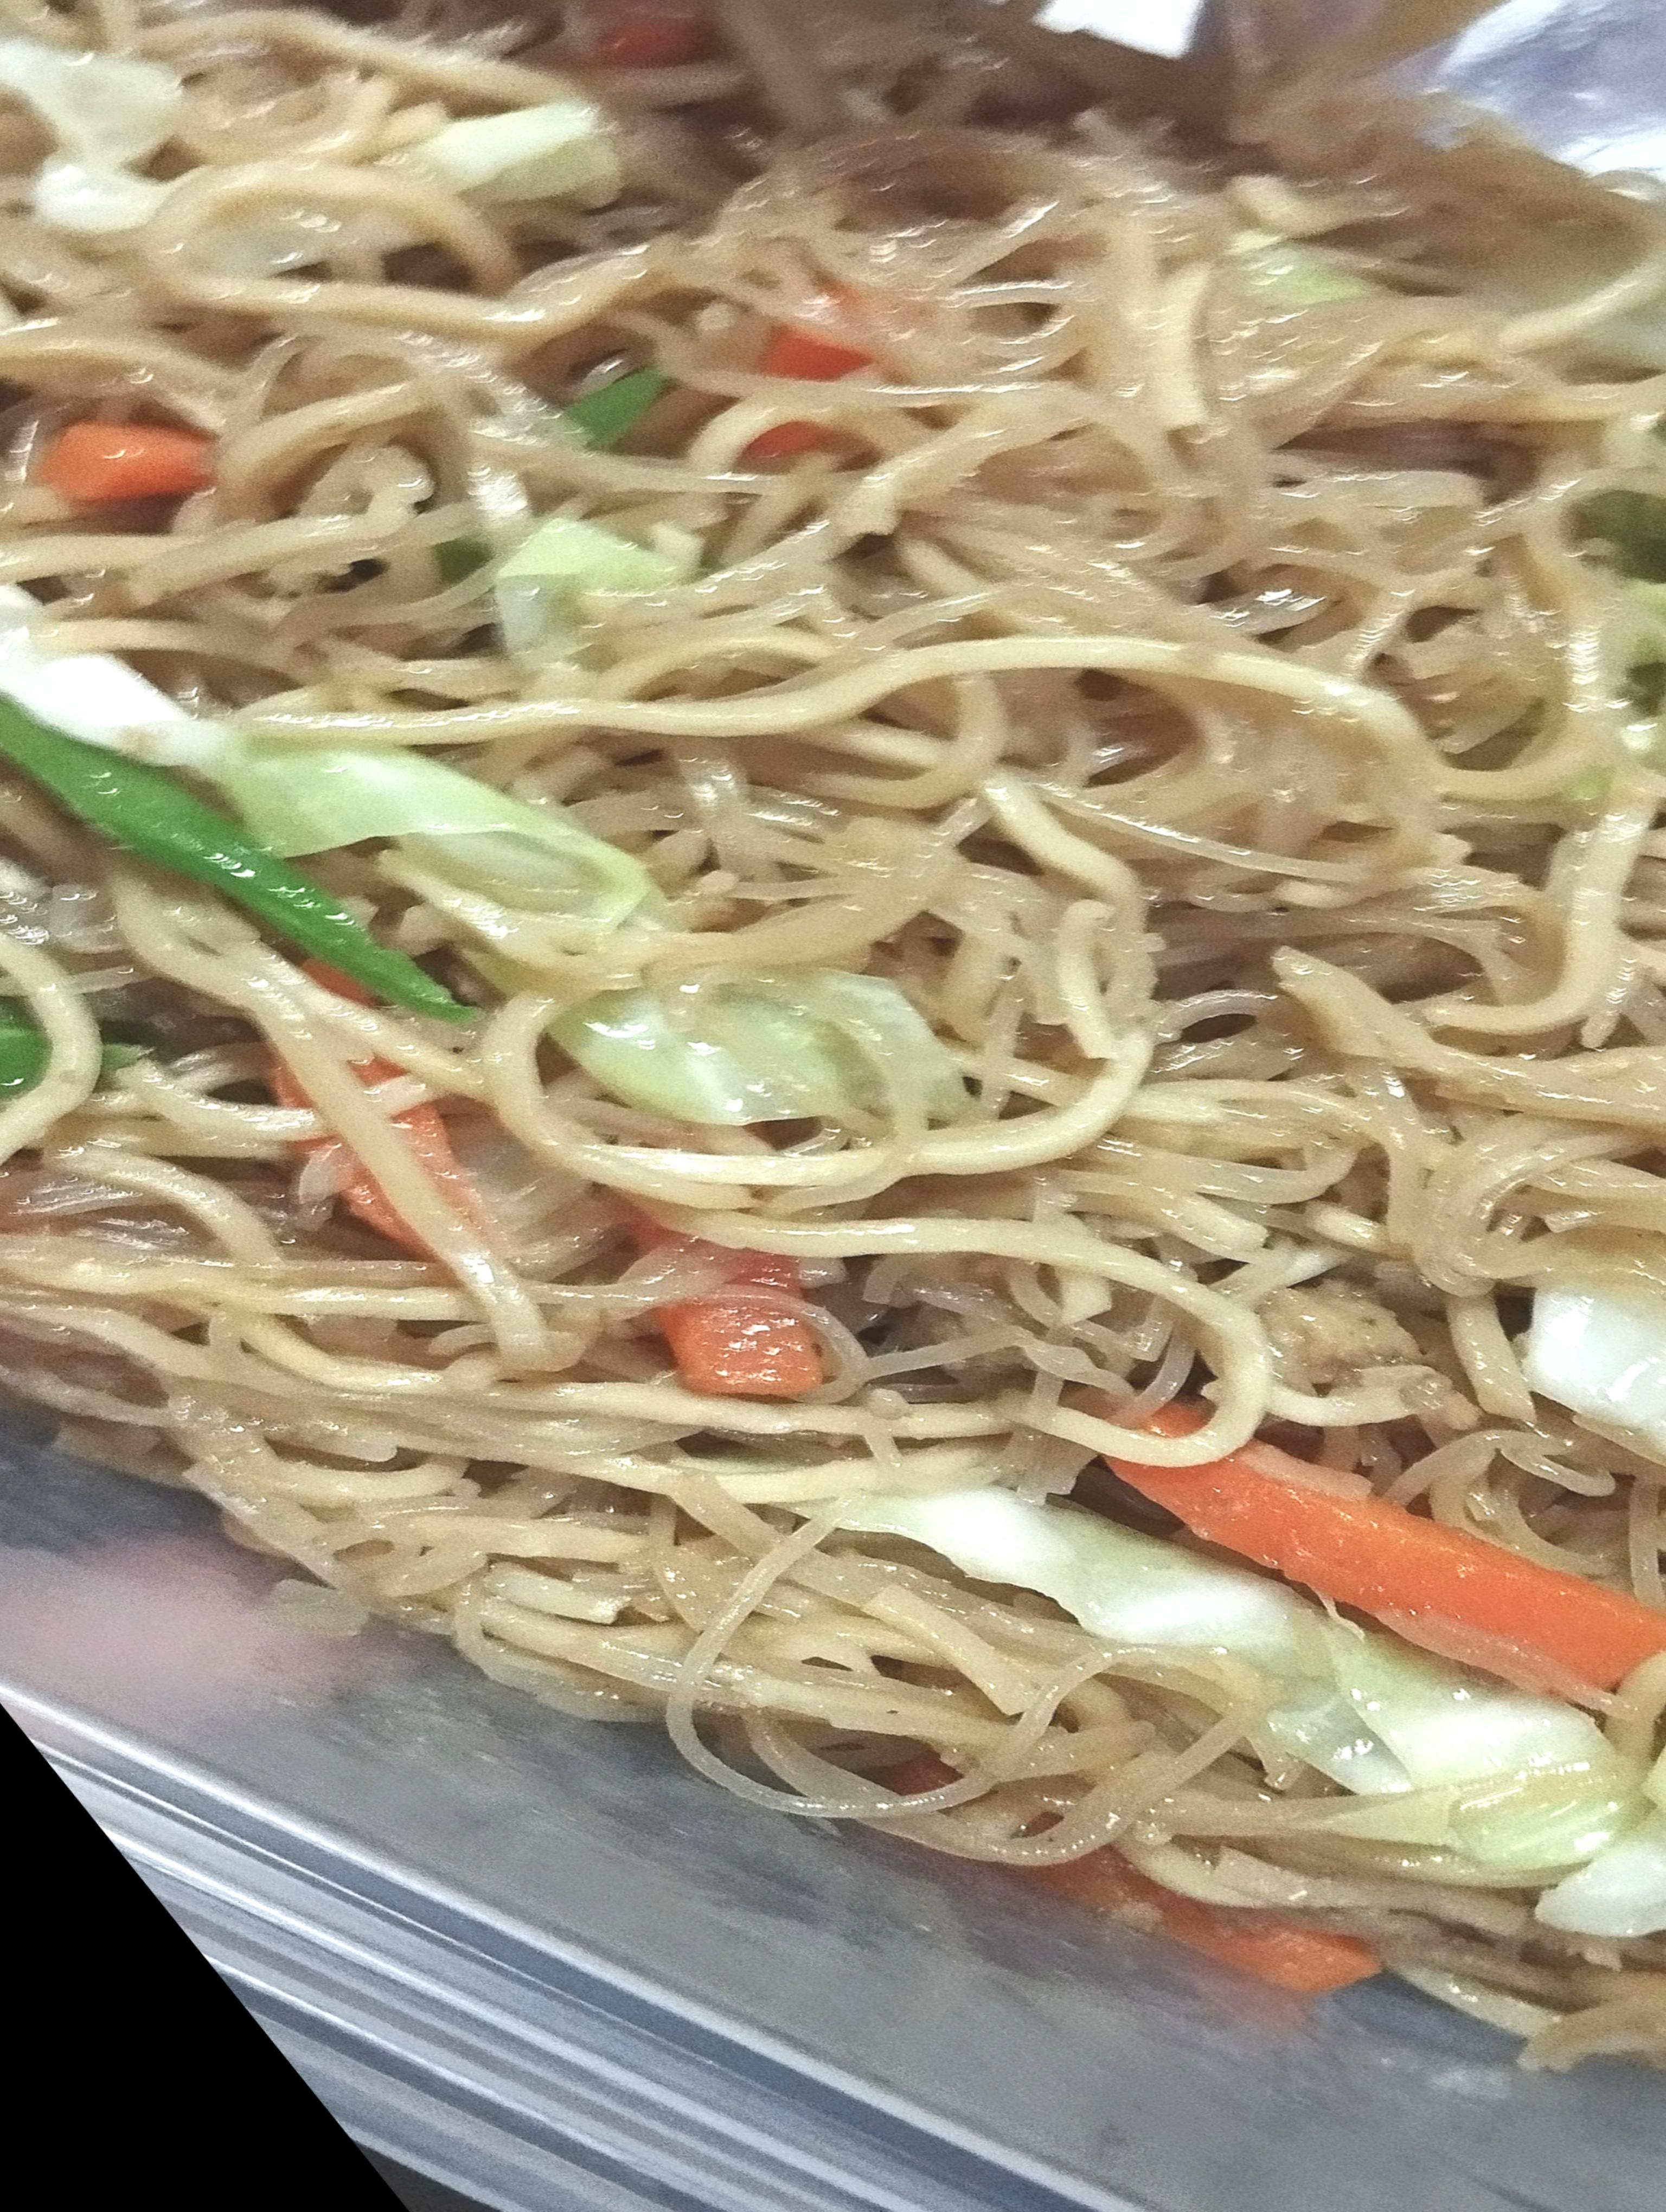pancit bihon: (0, 0, 1666, 2069)
